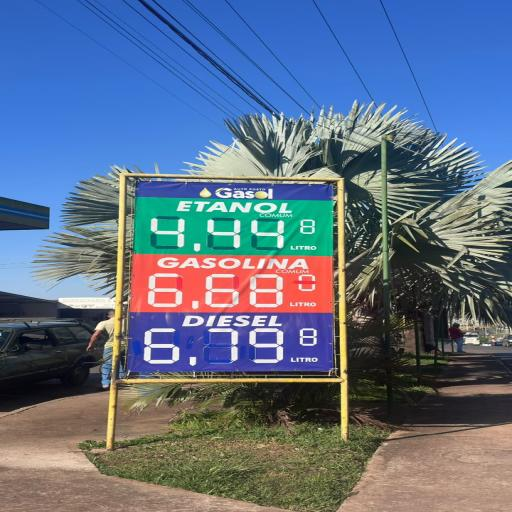ETANOL: (166, 196, 304, 220)
GASOLINA C: (155, 256, 318, 274)
S10: (180, 313, 288, 328)
placa: (134, 181, 338, 373)
preco: (140, 328, 290, 368), (142, 270, 287, 310), (142, 217, 292, 253)
